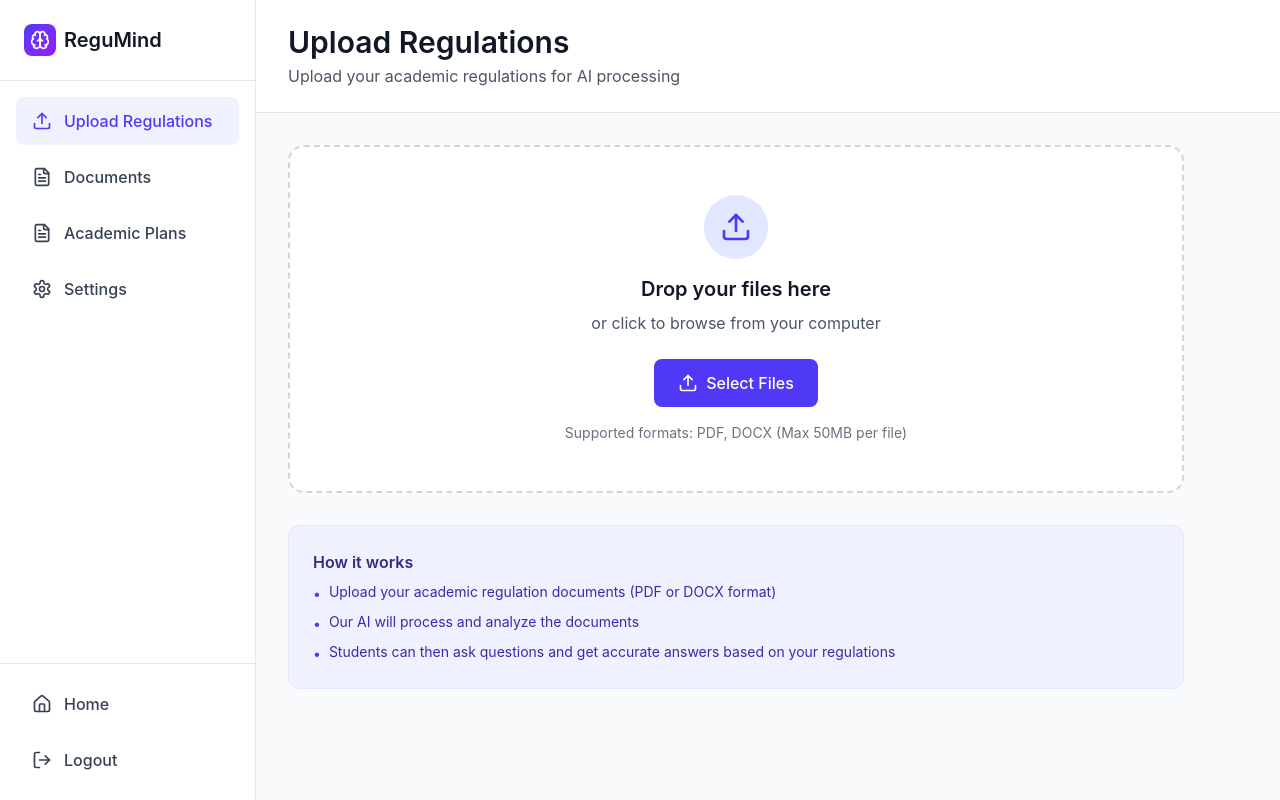
Scenario: UniversityDashboard — tab navigation › loads and displays documents after switching to Documents tab
Check: the heading "Drop your files here" is shown, box [641,277,831,301]
Click the button "Documents" at x=128, y=177, box [16,153,239,201]
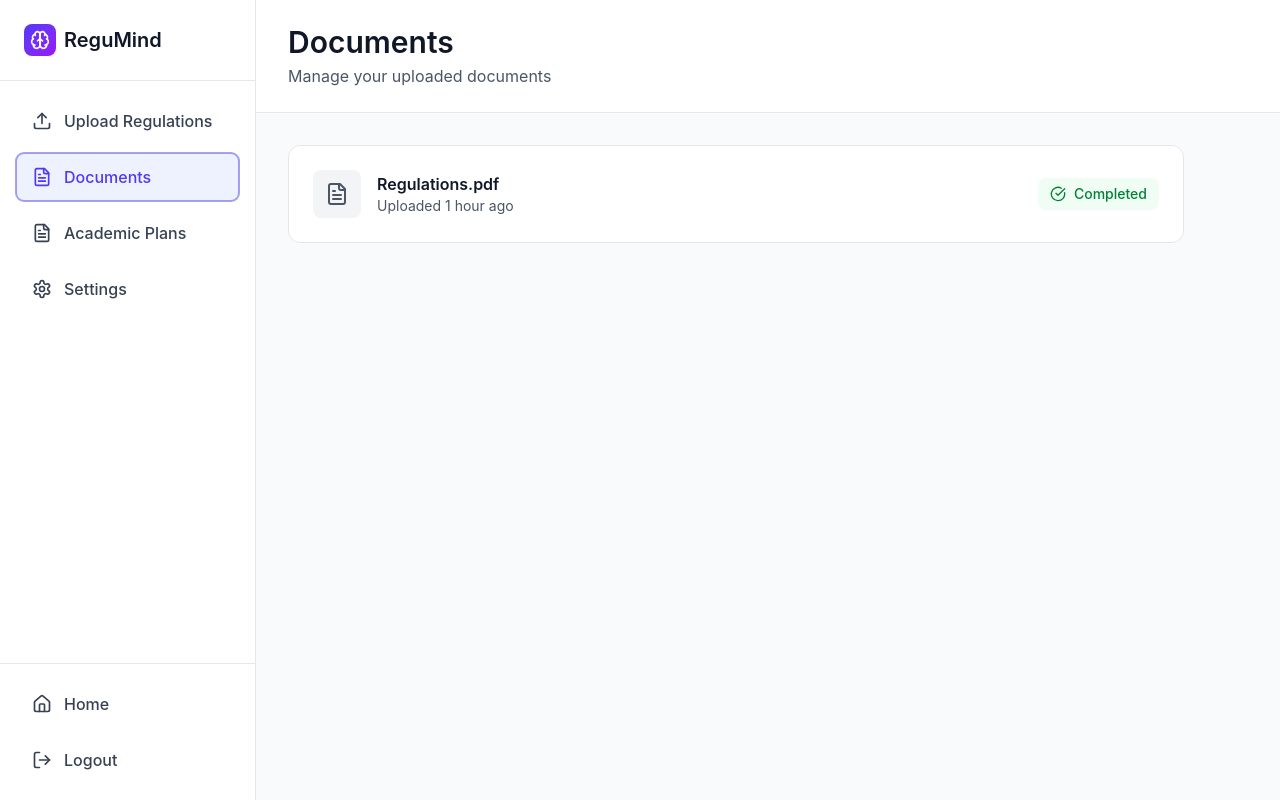
Check: the heading "Regulations.pdf" is shown, box [377,172,514,196]
